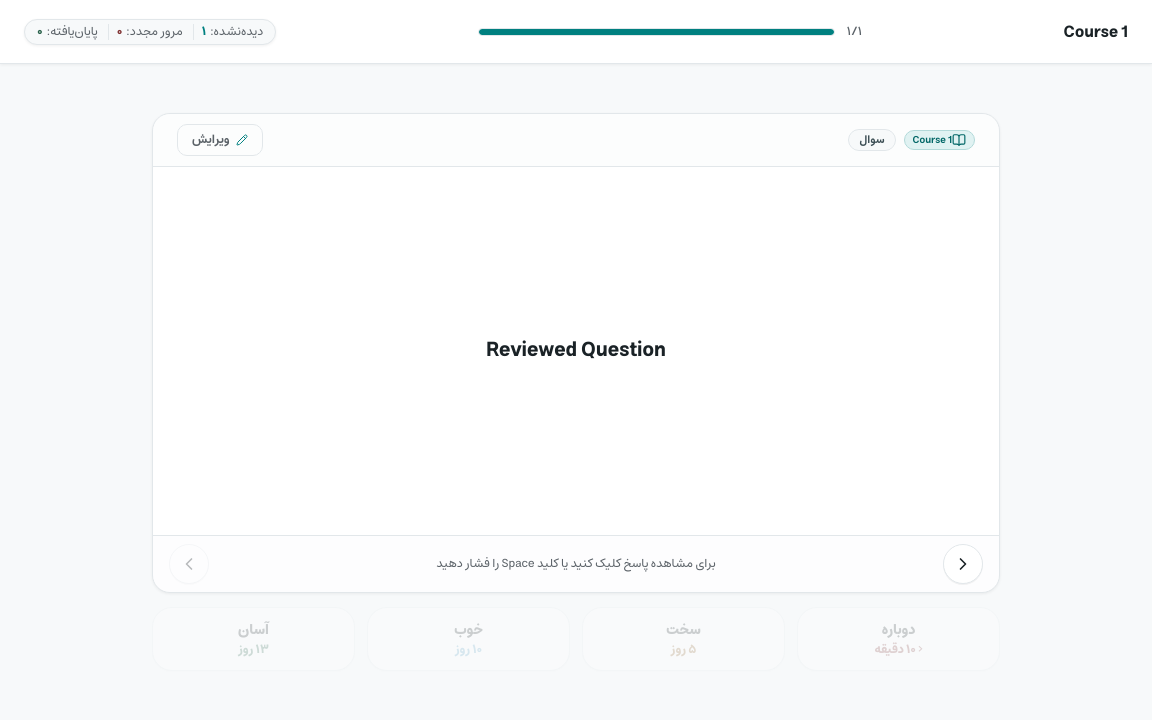
Test: Flashcard Experience Flow › dynamically displays scheduler intervals on Again/Hard/Good/Easy buttons for reviewed cards
Note: Flip card
Click the text "Reviewed Question".
click(576, 350)  # box x1=486 y1=333 x2=666 y2=368
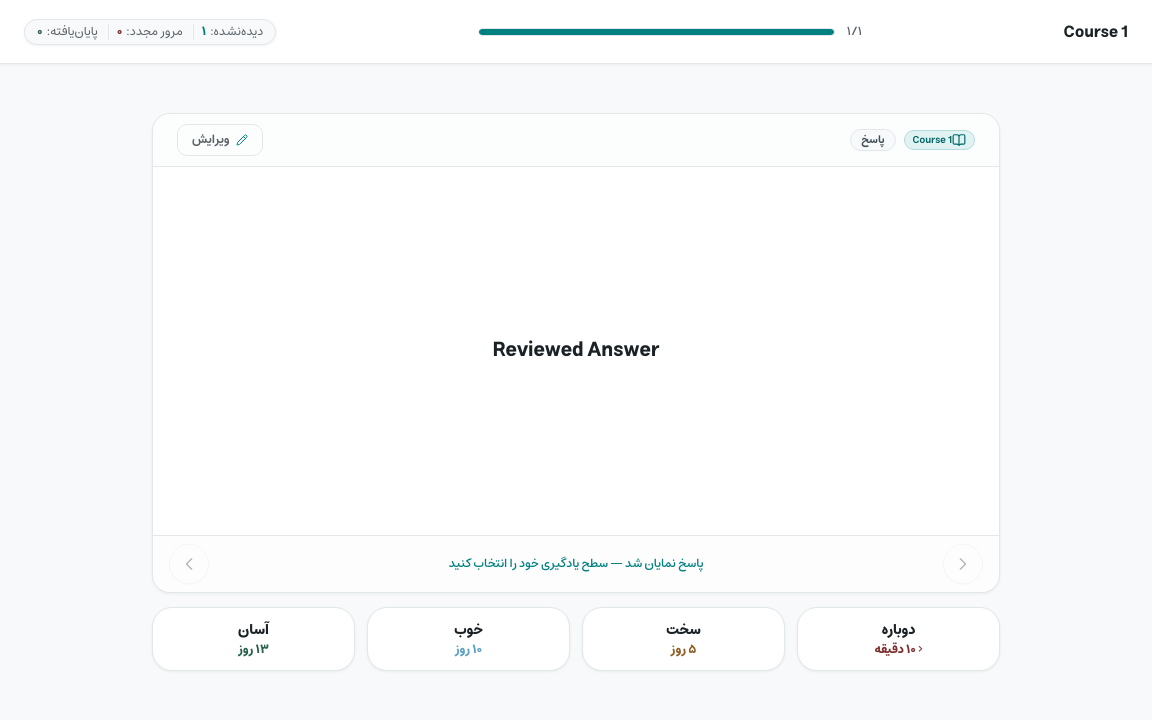
Expected: the text "< ۱۰ دقیقه" is shown, x1=874 y1=642 x2=923 y2=658
Now the text "Reviewed Answer" is shown, box x1=492 y1=333 x2=660 y2=368
